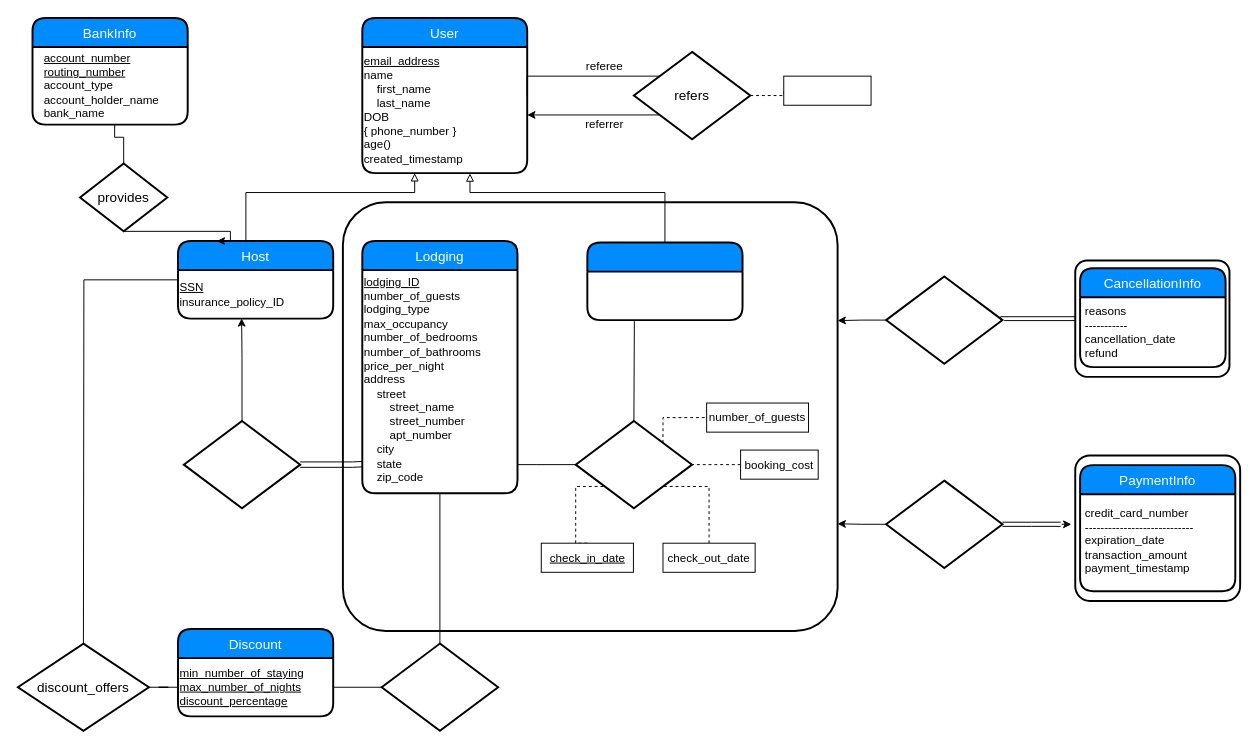
Some shapes in this 1257 by 748 pixel diagram are drawn without their labels. Here are the shapes that lost their labels. From the top down, the centre of each, then its label:
At (x=827, y=90): "website_credit".
At (x=664, y=281): "Guest".
At (x=944, y=319): "cancels_with".
At (x=241, y=464): "offers".
At (x=633, y=464): "books".
At (x=944, y=523): "pays_with".
At (x=439, y=686): "applies".
